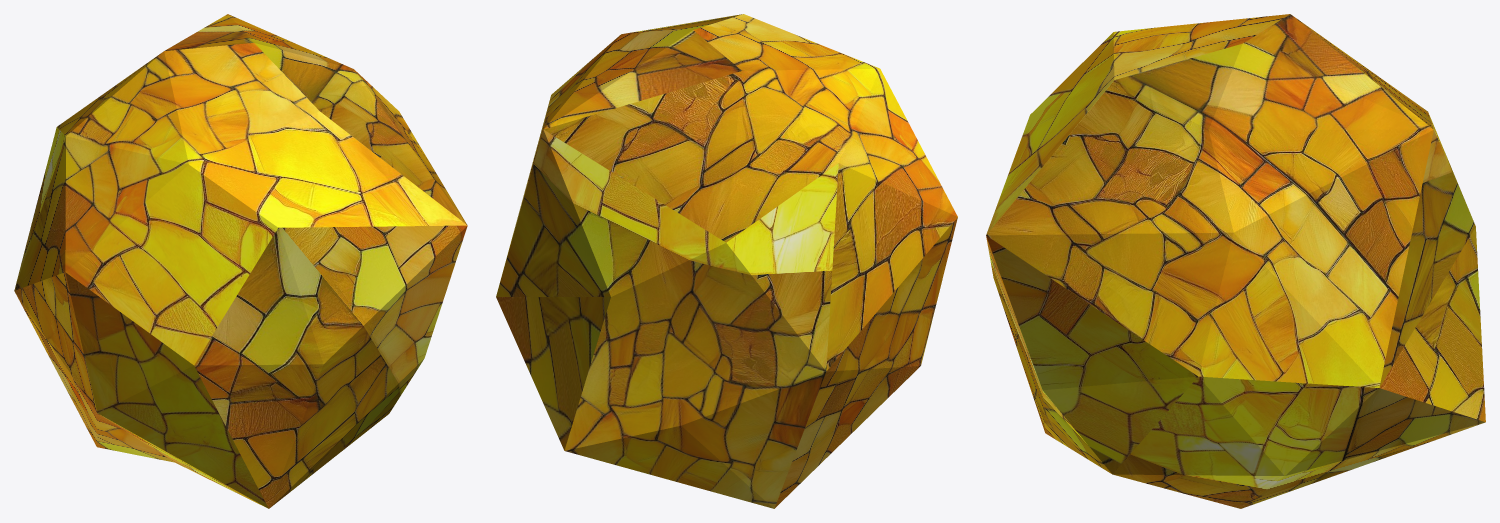
Rendered from star2YellowCompressed.glb.
The picture shows the model from 3 angles, left to right: view 1: azimuth 30°, elevation 25°; view 2: azimuth 150°, elevation 25°; view 3: azimuth 270°, elevation 25°; orthographic projection. The views are drawn at different scales.
Parts seen in each view (by area): view 1: star2; view 2: star2; view 3: star2.
Part boxes in pixels (x1,y1,x2,y2): star2: (14, 14, 467, 508); star2: (496, 14, 957, 508); star2: (986, 14, 1485, 508).
Bounding box in the file's own units: 1 × 1 × 1.
Materials: 1 (1 with a texture image).
